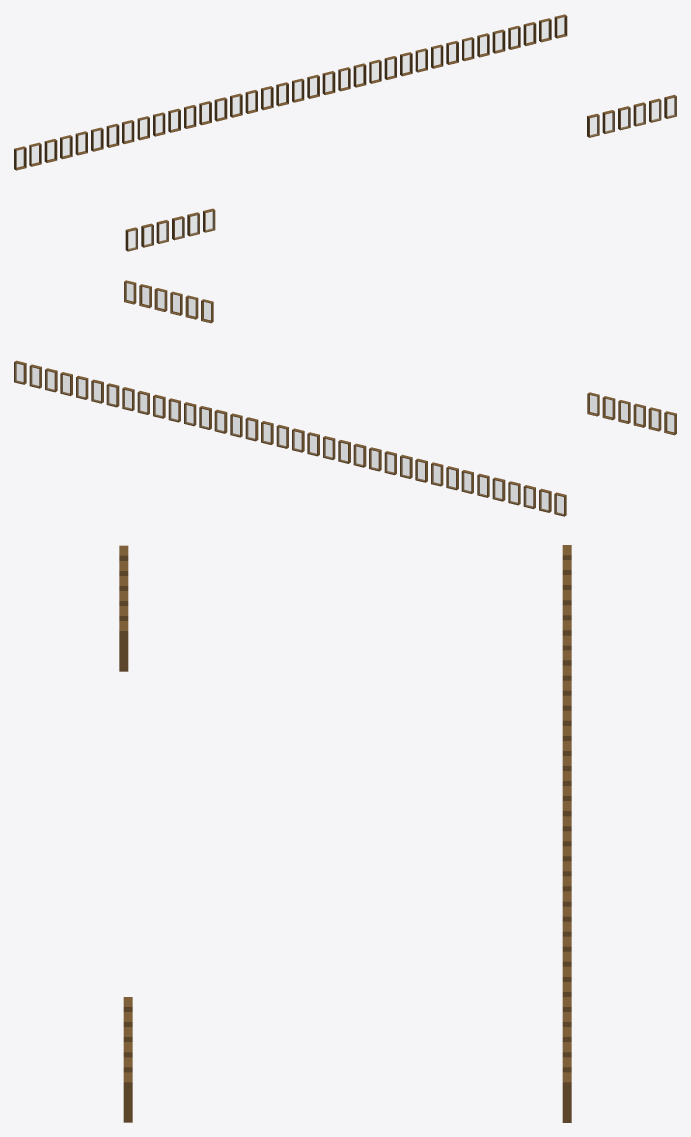
The model's file is insaat_revit.ifc.ifc.ifc_91.5 Kantin_IfcWindow.dae.
3 renders of one model, top to bottom at view 1: azimuth 30°, elevation 25°; view 2: azimuth 150°, elevation 25°; view 3: azimuth 270°, elevation 25°, orthographic. The views are drawn at different scales.
Bounding box in the file's own units: 42.8 × 15.23 × 1.5.
